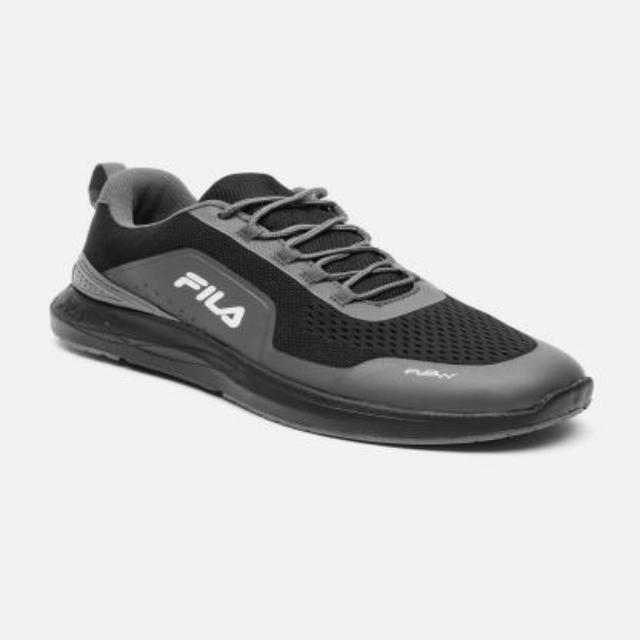FILA_original: (170, 258, 254, 340)
